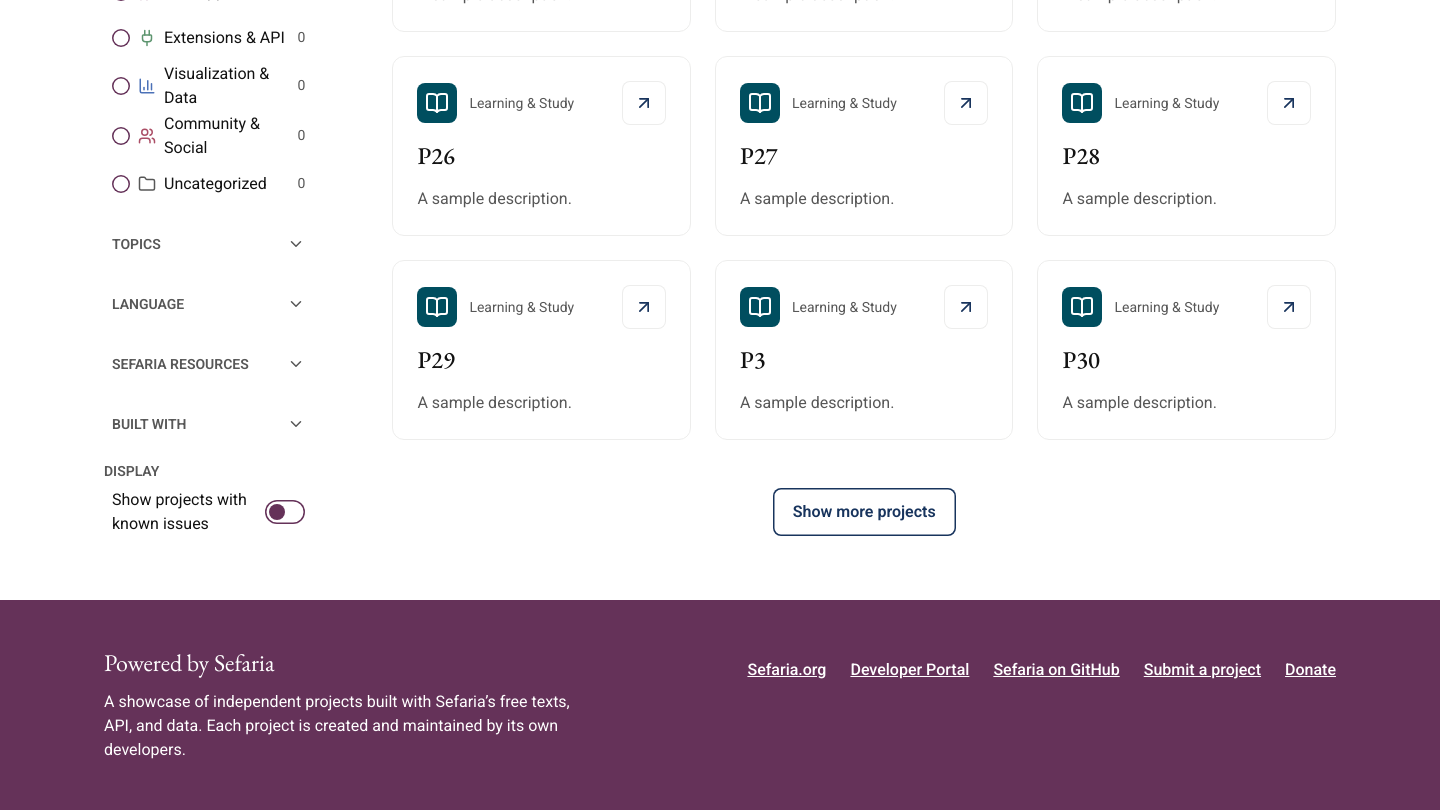
Test case: BrowsePage › shows 24 more with Show more, then hides the button when all are shown
The width and height of the screenshot is (1440, 810).
(page scrolled)
Click the button "Show more projects".
click(864, 512)  # box [773,488,956,536]
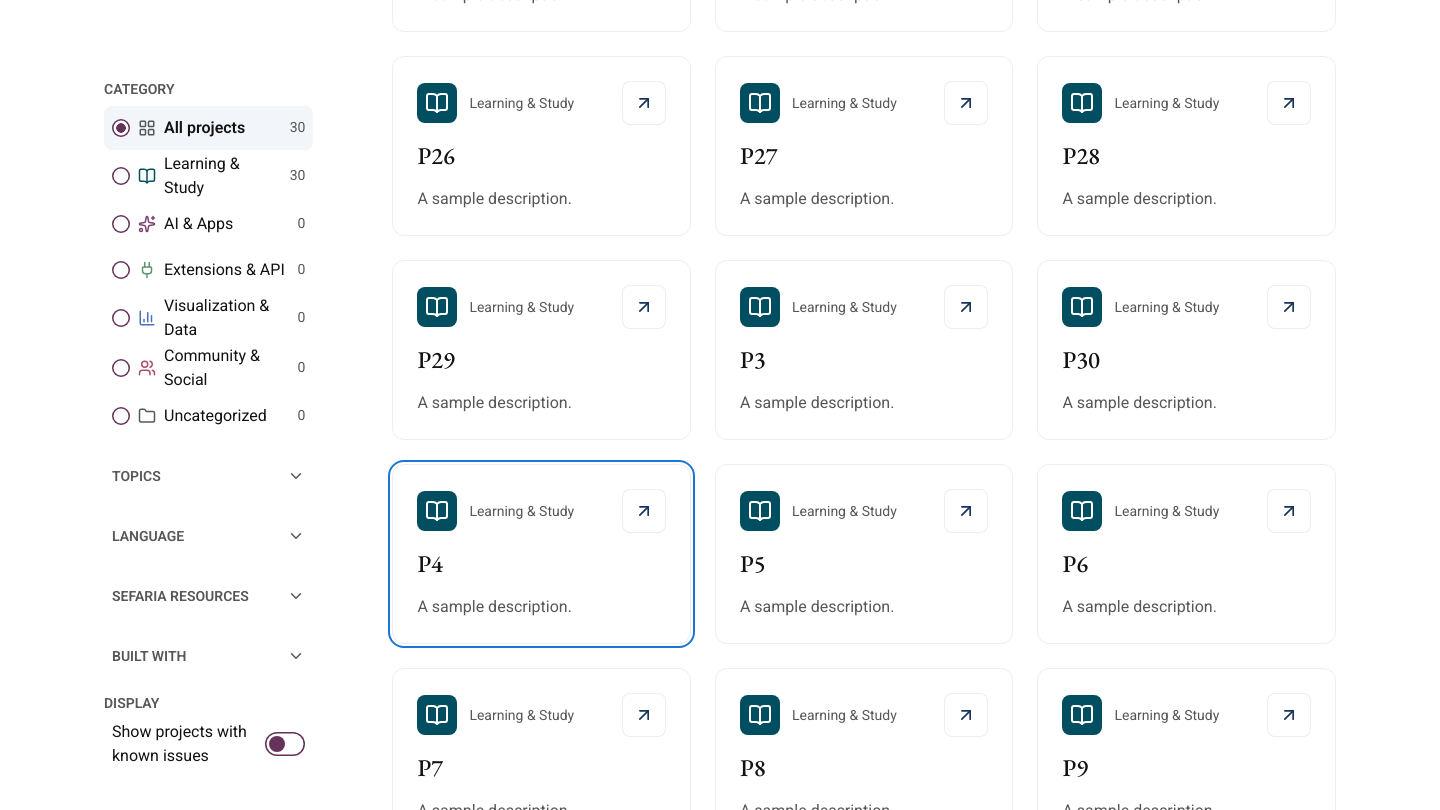
Check: the button "Show more projects" is gone
